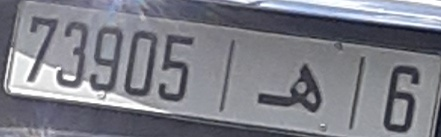0: (123, 29, 158, 100)
3: (56, 20, 89, 90)
5: (158, 31, 196, 103)
6: (381, 60, 422, 134)
7: (27, 14, 58, 83)
9: (89, 25, 123, 94)
h: (254, 60, 325, 116)
